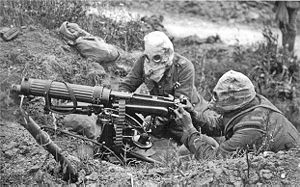rifle: (10, 79, 166, 121)
rifle in hand: (6, 72, 205, 140)
